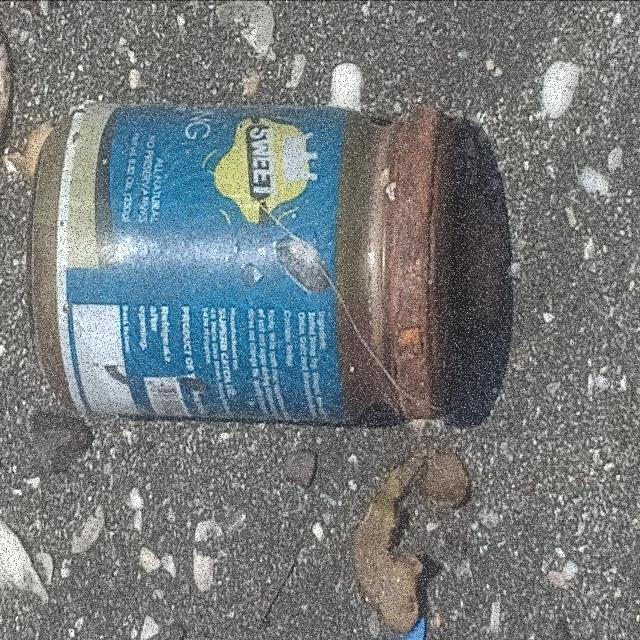glass_waste: (24, 102, 455, 423)
